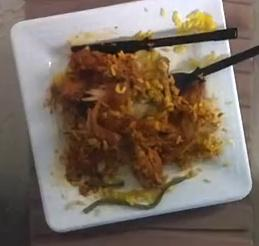rice_mix: (48, 47, 220, 194)
